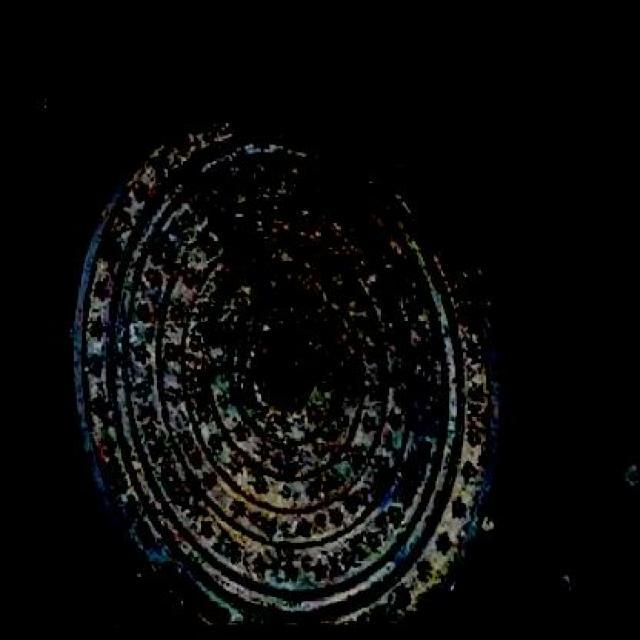Manhole: (69, 20, 537, 625)
